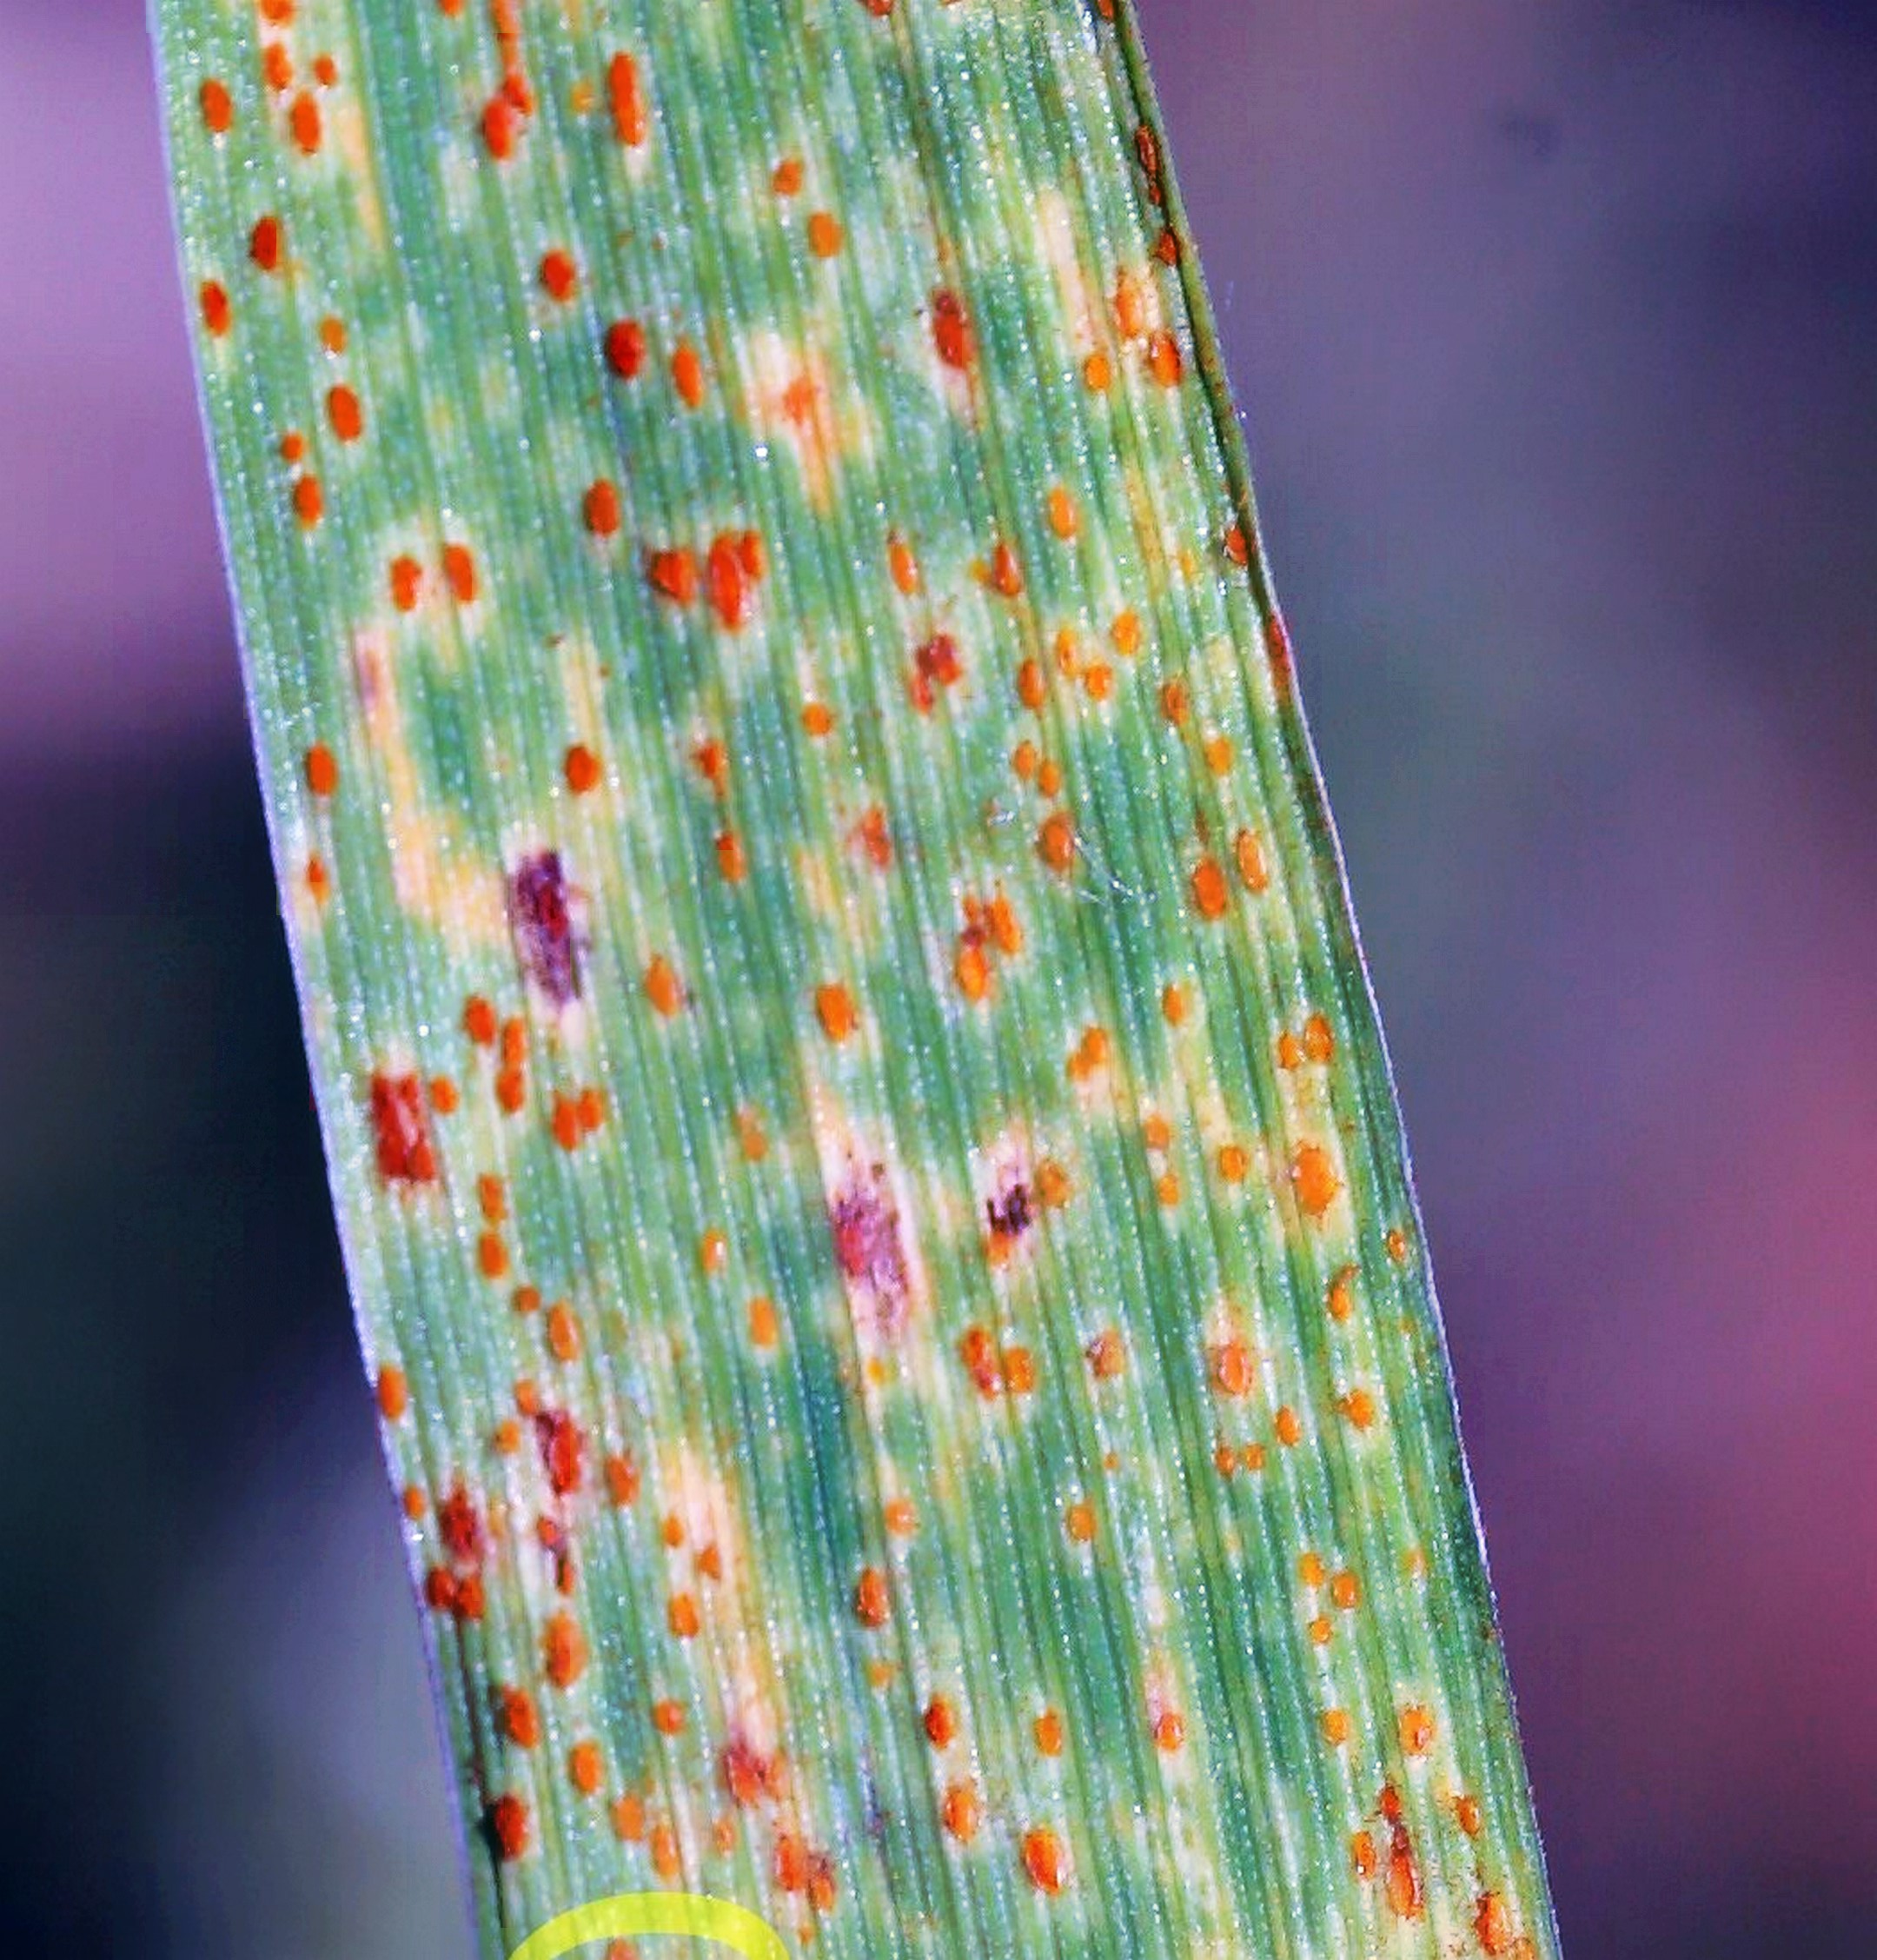Leaf Rust: (212, 213, 1520, 1774)
